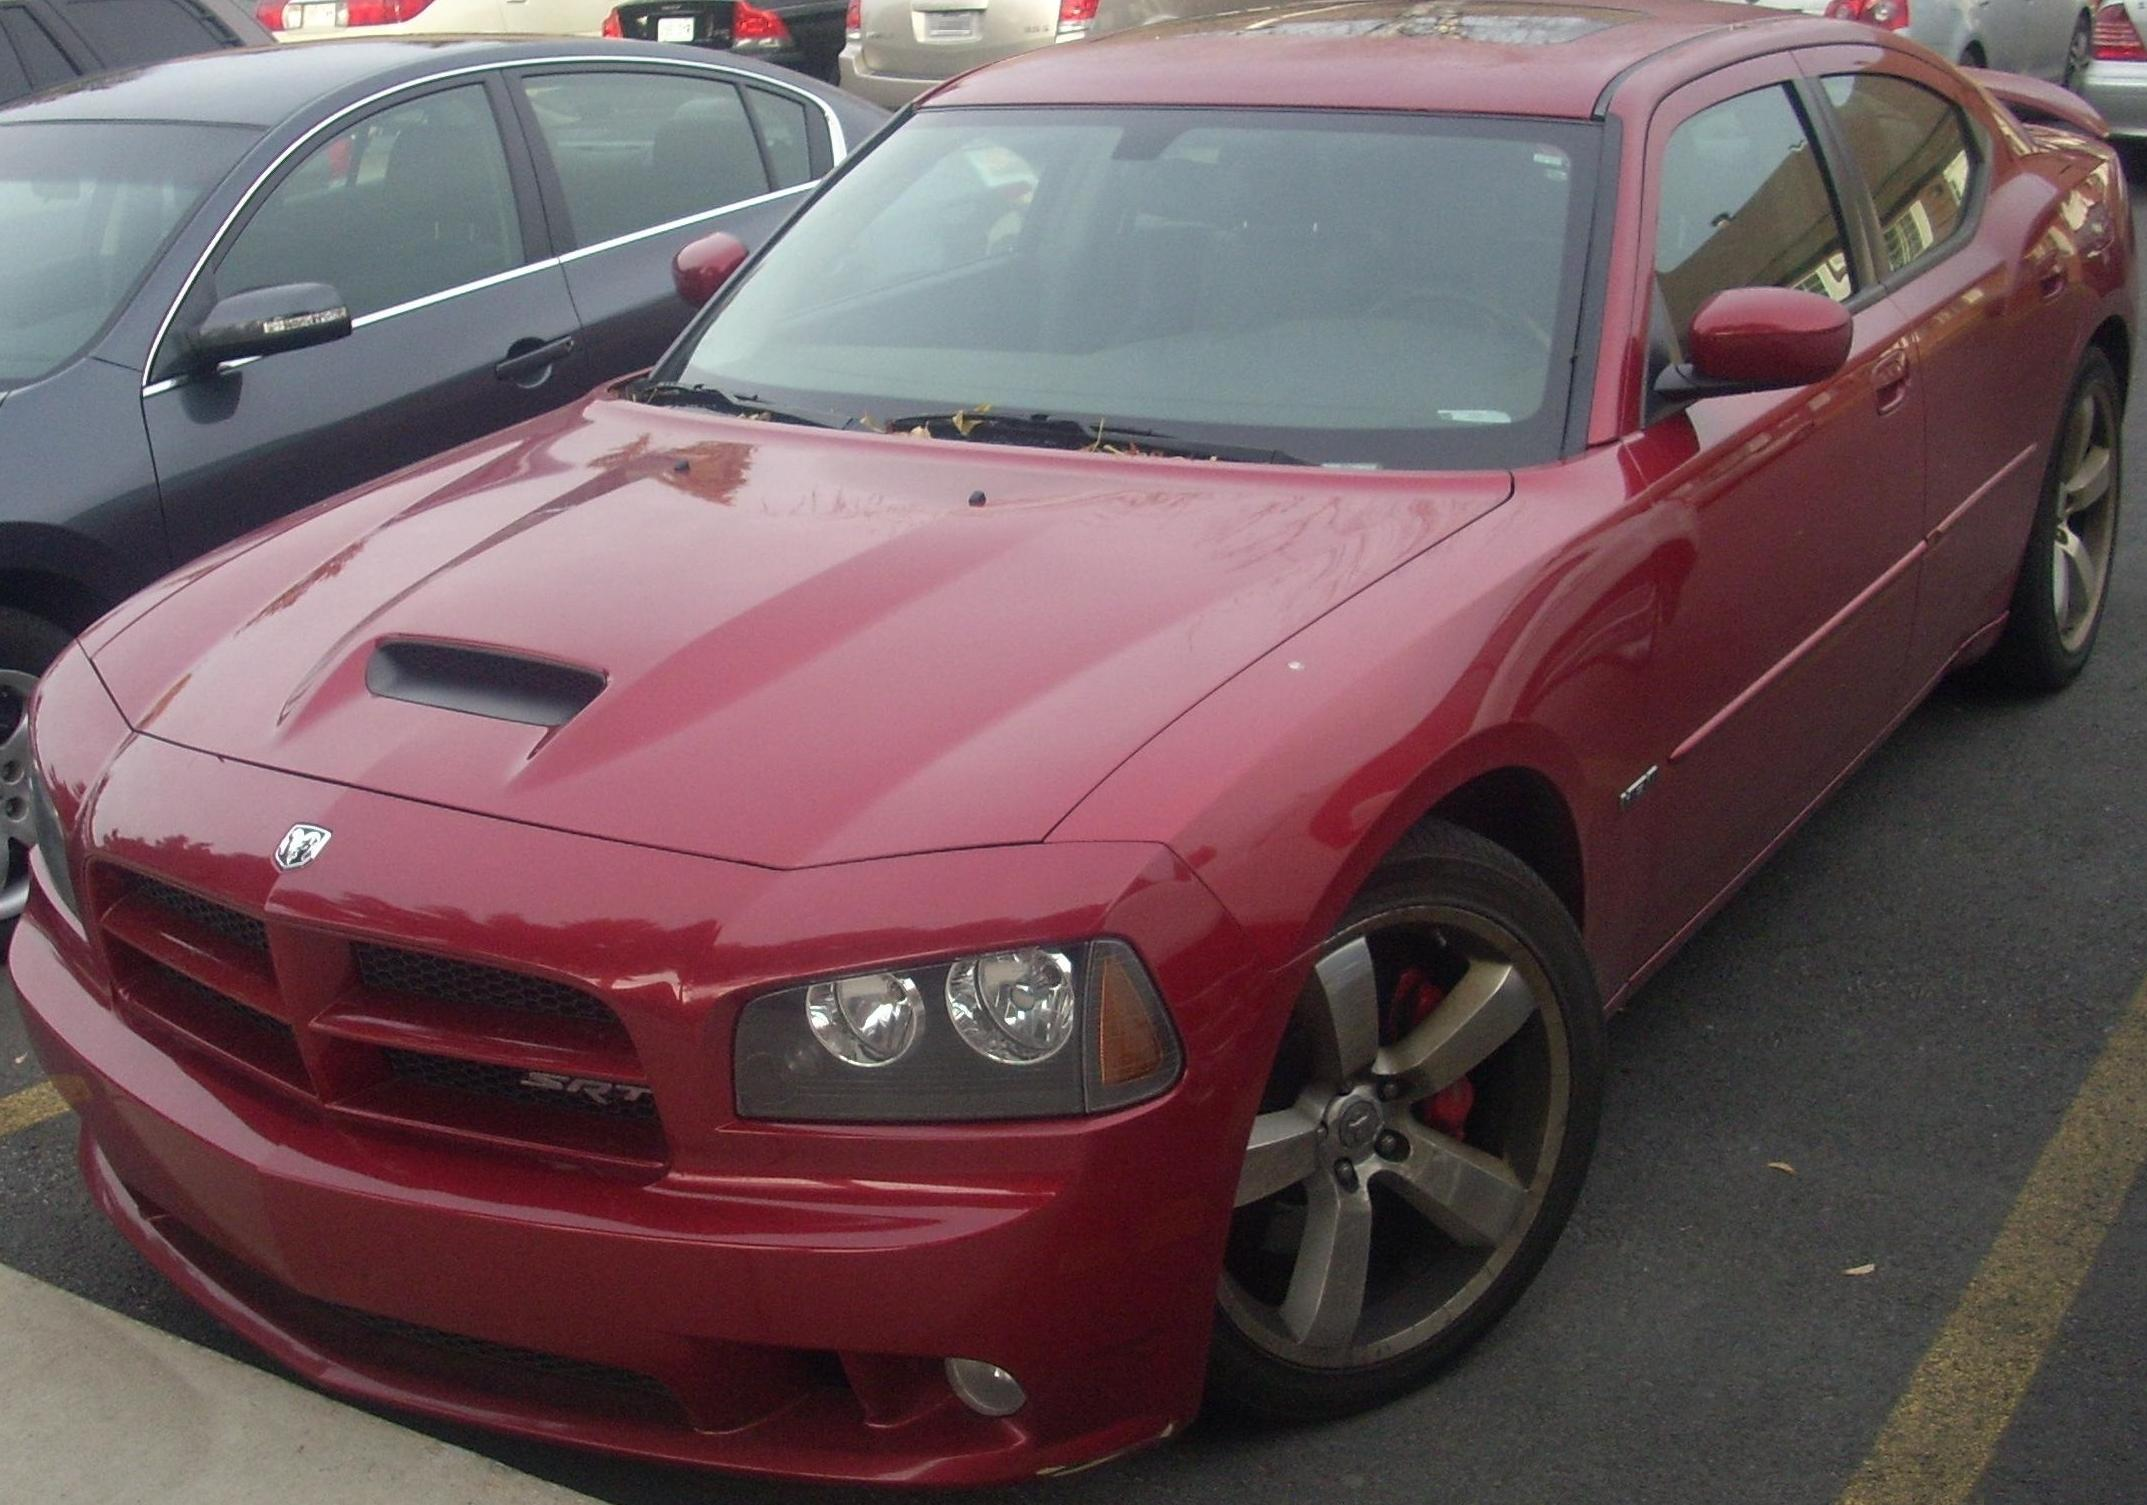front_view: (31, 673, 1220, 1436)
headlight: (710, 904, 1162, 1146)
side_glass: (1607, 49, 1995, 357)
